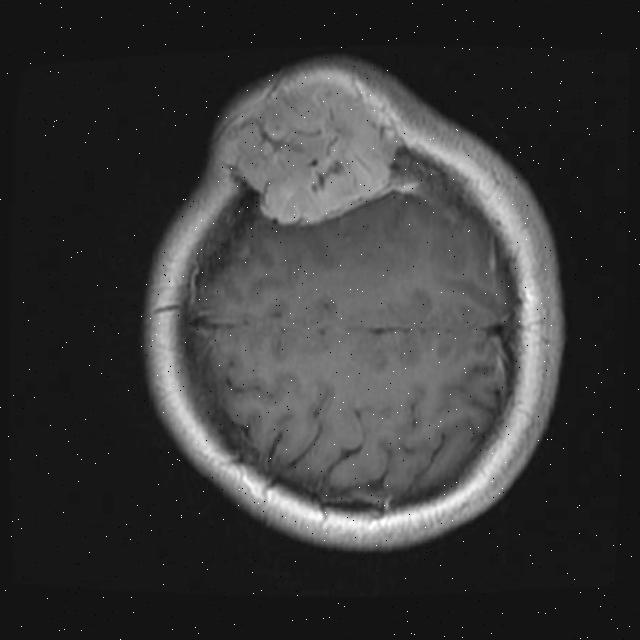Meningioma: (224, 71, 412, 231)
